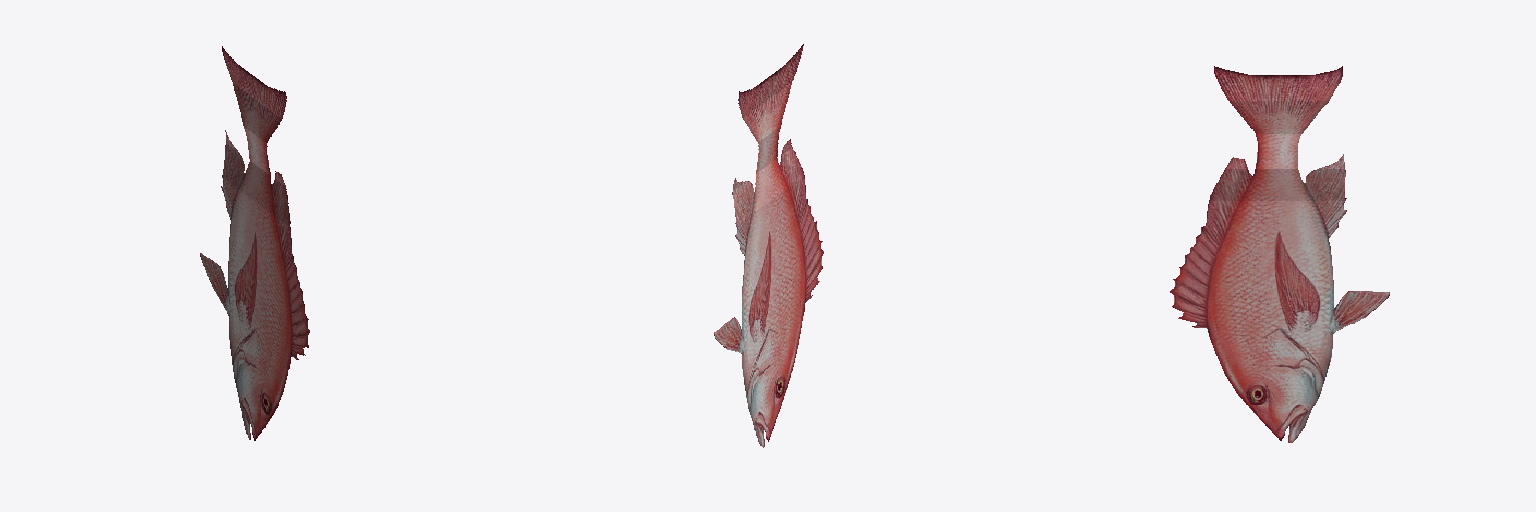
3 views of the same model, side by side, from view 1: azimuth 30°, elevation 25°; view 2: azimuth 150°, elevation 25°; view 3: azimuth 270°, elevation 25° (orthographic).
Size of the model in its own units: 0.0313 by 2 by 1.06.
1 materials, 1 textured.